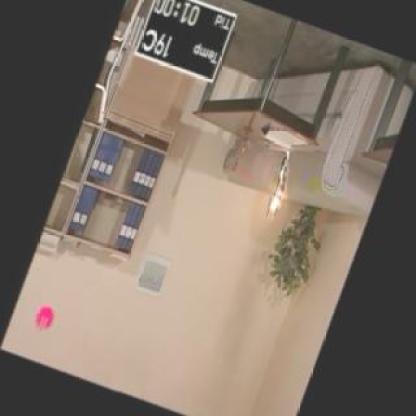Fire: (267, 140, 296, 220)
